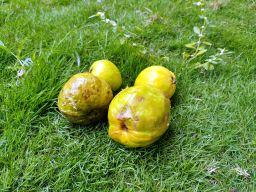guava: (107, 83, 175, 150), (54, 70, 117, 125), (130, 64, 183, 105), (87, 58, 124, 92)
